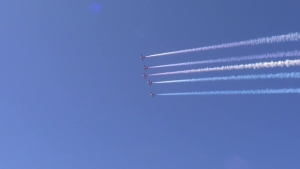flight: (148, 89, 157, 99), (146, 79, 155, 88), (140, 72, 149, 80), (142, 64, 150, 72), (139, 53, 146, 61)
